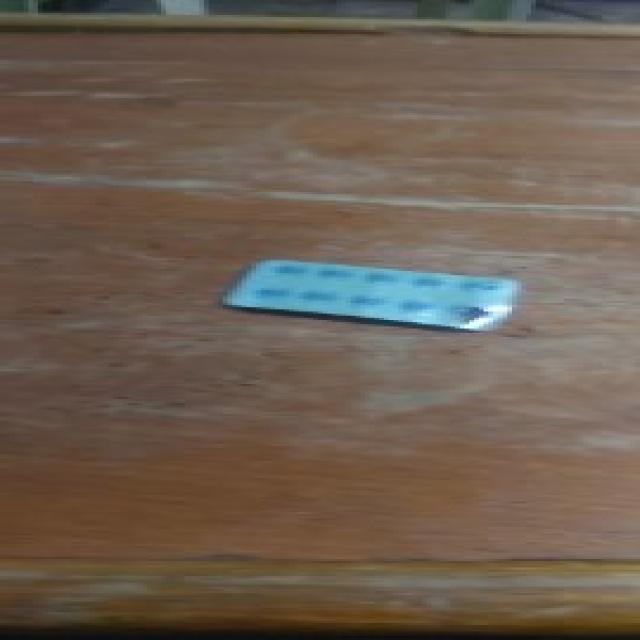Cacat: (224, 261, 522, 332)
Kemasan: (438, 301, 498, 326)
